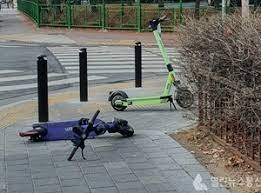fallin_kick: (20, 111, 133, 159)
guide_blocks: (2, 104, 28, 120), (48, 93, 79, 102), (87, 84, 133, 90), (91, 100, 110, 109)
kick_board: (110, 15, 192, 109)
kick_body: (130, 97, 169, 104)
kick_handler: (143, 16, 167, 28)
kick_neck: (154, 33, 175, 81)
kick_wheel: (109, 90, 127, 110), (175, 89, 193, 107)
